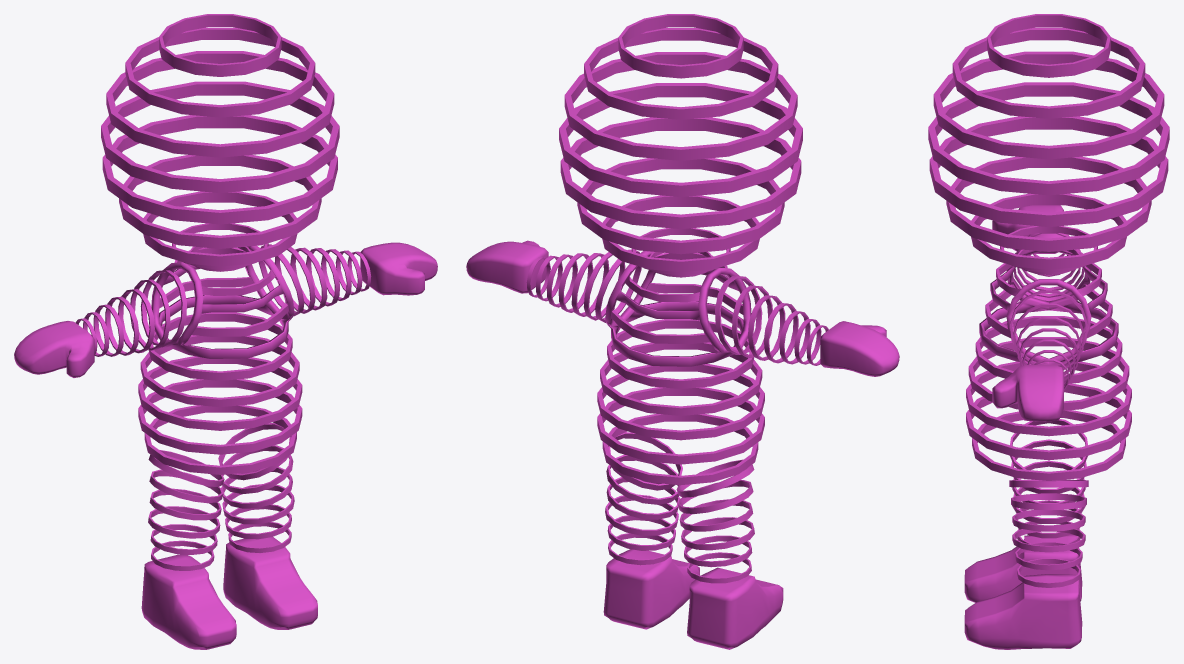
File: Ayah.fbx
3 renders of one model, left to right at view 1: azimuth 30°, elevation 25°; view 2: azimuth 150°, elevation 25°; view 3: azimuth 270°, elevation 25°, orthographic. The views are drawn at different scales.
Visible parts, largest first — view 1: Ayah1; view 2: Ayah1; view 3: Ayah1.
Part boxes in pixels (box(x1,y1,x2,y2)): Ayah1: box(14, 14, 437, 649); Ayah1: box(466, 14, 899, 649); Ayah1: box(928, 14, 1169, 649).
Size of the model in its own units: 1.41 by 1.86 by 0.6994.
